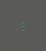nine: (19, 20, 25, 30)
